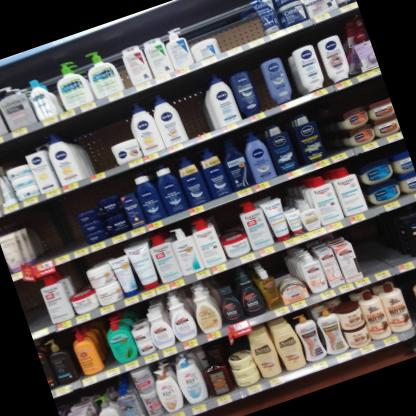empty_space: (349, 215, 409, 282), (29, 202, 89, 261), (210, 0, 265, 53), (79, 122, 120, 178), (174, 87, 215, 141), (15, 280, 50, 334), (317, 110, 347, 155), (247, 65, 274, 111)
